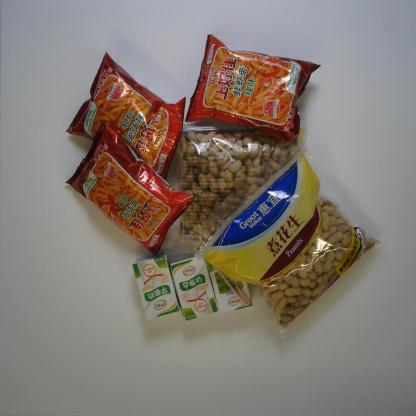Dried Food: (181, 130, 385, 340), (162, 118, 307, 258)
Milk: (132, 254, 180, 322), (170, 255, 219, 321), (204, 252, 253, 314)
Puffed Food: (66, 121, 196, 257), (65, 50, 187, 182), (184, 32, 322, 148)
